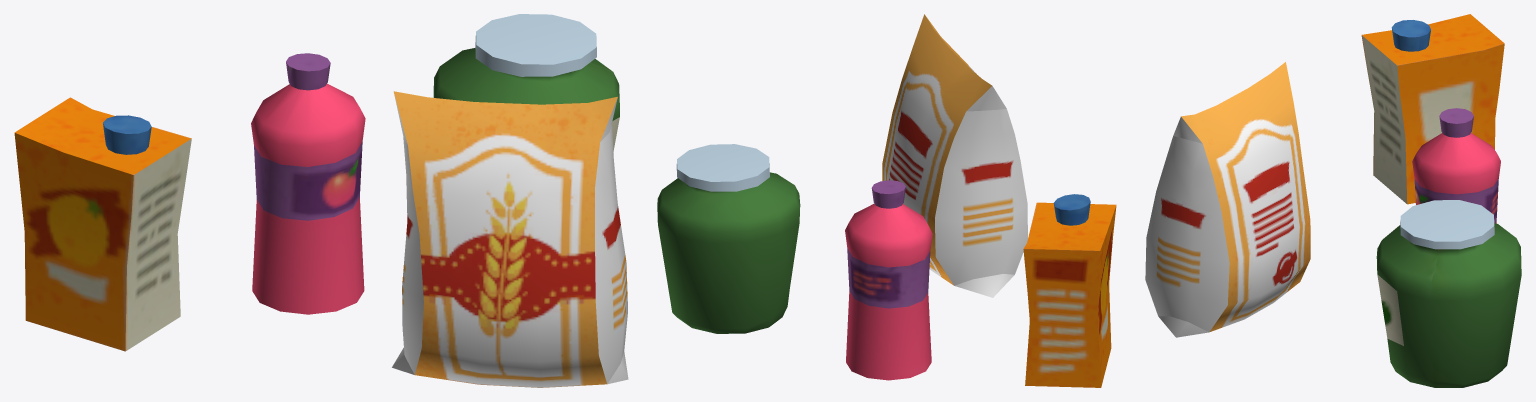
The picture shows the model from 3 angles, left to right: view 1: azimuth 30°, elevation 25°; view 2: azimuth 150°, elevation 25°; view 3: azimuth 270°, elevation 25°; orthographic projection. The views are drawn at different scales.
Visible parts, largest first — view 1: hello neighbor wheat bag_3, hello neighbor juice box_2, soda de manzana_0, hello neighbor pikles_1; view 2: hello neighbor wheat bag_3, hello neighbor pikles_1, hello neighbor juice box_2, soda de manzana_0; view 3: hello neighbor wheat bag_3, hello neighbor pikles_1, hello neighbor juice box_2, soda de manzana_0.
Part boxes in pixels (x1=…): hello neighbor wheat bag_3: x1=392, y1=91, x2=628, y2=387; hello neighbor juice box_2: x1=14, y1=97, x2=191, y2=351; soda de manzana_0: x1=251, y1=53, x2=365, y2=314; hello neighbor pikles_1: x1=433, y1=14, x2=619, y2=151; hello neighbor wheat bag_3: x1=882, y1=14, x2=1027, y2=297; hello neighbor pikles_1: x1=657, y1=144, x2=800, y2=333; hello neighbor juice box_2: x1=1023, y1=194, x2=1116, y2=387; soda de manzana_0: x1=845, y1=180, x2=932, y2=380; hello neighbor wheat bag_3: x1=1145, y1=62, x2=1310, y2=337; hello neighbor pikles_1: x1=1376, y1=200, x2=1521, y2=387; hello neighbor juice box_2: x1=1361, y1=14, x2=1504, y2=204; soda de manzana_0: x1=1412, y1=108, x2=1500, y2=223.
Size of the model in its own units: 6.96 by 3.36 by 5.06.
Materials: 4 (4 with a texture image).
